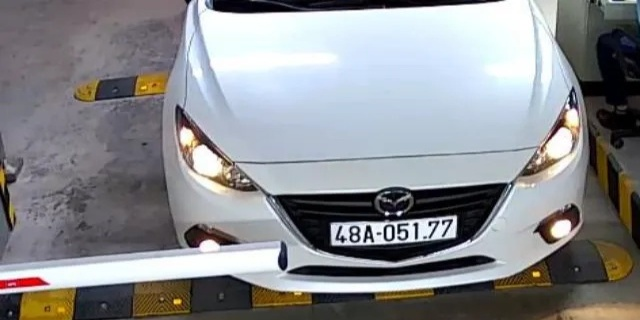bien_so: (329, 219, 458, 244)
